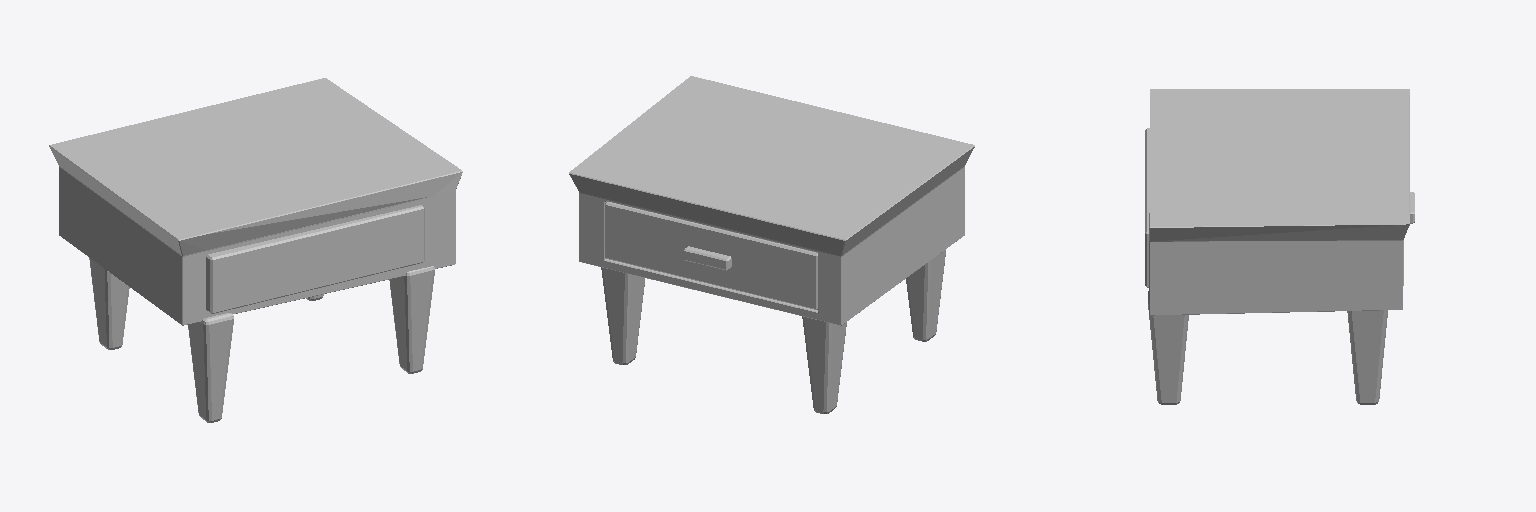
Rendered from LACI KECIL LT 2.obj.
3 views of the same model, side by side, from view 1: azimuth 30°, elevation 25°; view 2: azimuth 150°, elevation 25°; view 3: azimuth 270°, elevation 25° (orthographic).
Visible parts, largest first — view 1: pCube2 group1, group1 pCube19, group1_pCube3; view 2: pCube2 group1, group1 pCube19, group1_pCube3, group1 pCube20; view 3: pCube2 group1, group1_pCube3, group1 pCube19.
Part boxes in pixels (left/top/right/bottom): pCube2 group1: left=49, top=78, right=462, bottom=325; group1 pCube19: left=206, top=205, right=424, bottom=313; group1_pCube3: left=89, top=258, right=434, bottom=422; pCube2 group1: left=569, top=76, right=974, bottom=325; group1 pCube19: left=605, top=202, right=817, bottom=309; group1_pCube3: left=601, top=250, right=945, bottom=413; group1 pCube20: left=684, top=246, right=731, bottom=270; pCube2 group1: left=1149, top=89, right=1409, bottom=315; group1_pCube3: left=1148, top=291, right=1387, bottom=404; group1 pCube19: left=1145, top=128, right=1403, bottom=287.
Bounding box in the file's own units: 1.77 × 1.16 × 1.45.